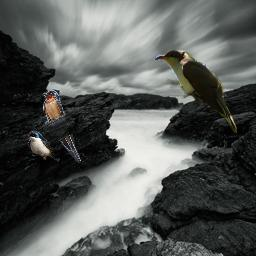Cuckoo: (153, 50, 237, 133)
Swallow: (43, 90, 81, 163), (28, 131, 55, 160)
